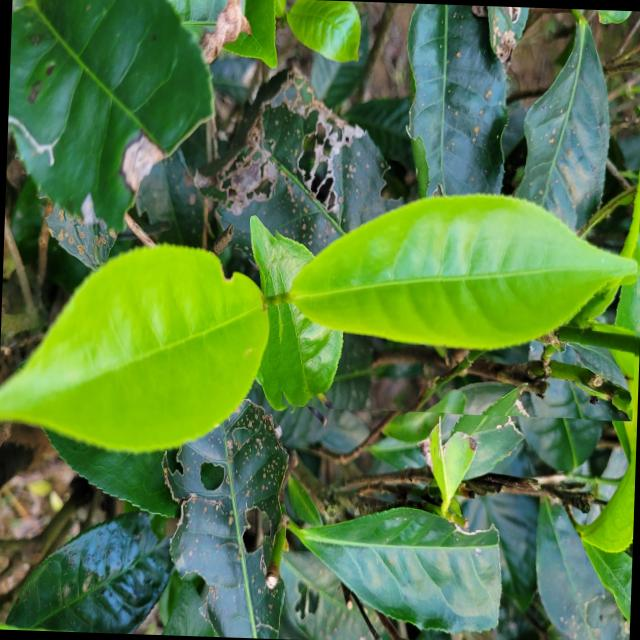Catagory A(1-2 days): (262, 156, 640, 421)
